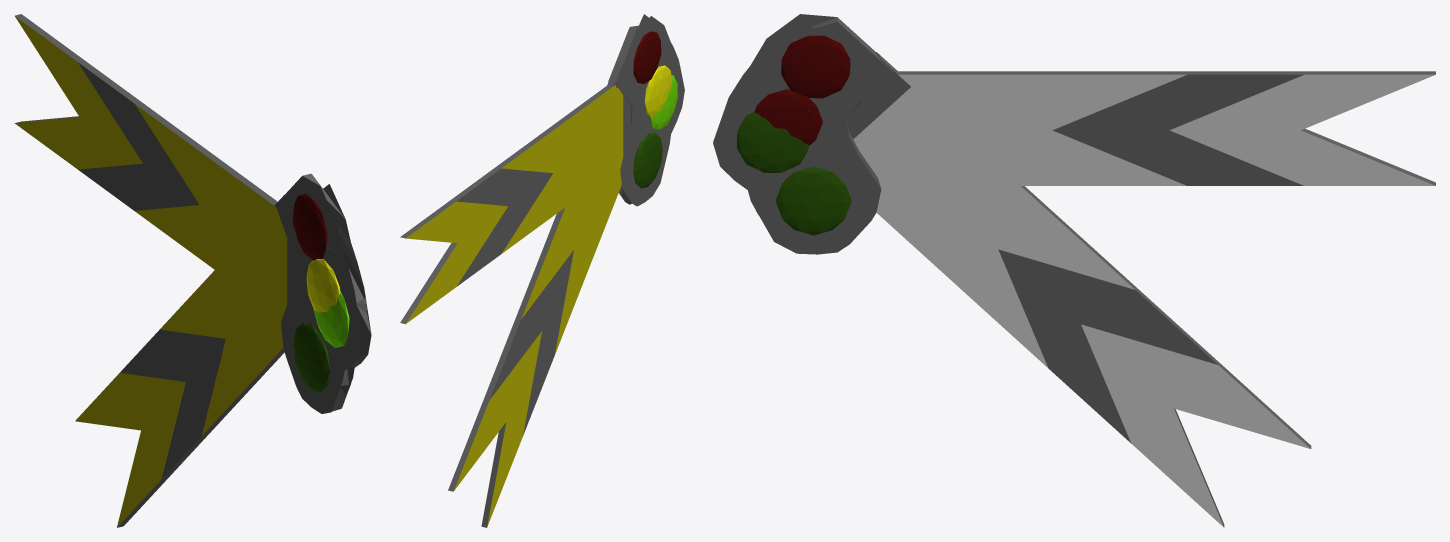
File: distant-yellow-arms.dae
3 views of the same model, side by side, from view 1: azimuth 30°, elevation 25°; view 2: azimuth 150°, elevation 25°; view 3: azimuth 270°, elevation 25° (orthographic). The views are drawn at different scales.
Parts seen in each view (by area): view 1: Cube_010, Cube_015, Cube_012, Cube_014, Icosphere_002, Icosphere_007, Icosphere_003, Icosphere_008; view 2: Cube_010, Cube_015, Cube_012, Cube_014, Icosphere_002, Icosphere_007, Icosphere_003, Icosphere_008; view 3: Cube_015, Cube_010, Cube_014, Cube_012, Icosphere_001, Icosphere_004, Icosphere_005, Icosphere_006.
Boxes of the visible parts, x1,y1,x2,y2 form: Cube_010: (14, 14, 296, 318); Cube_015: (75, 195, 284, 527); Cube_012: (281, 240, 354, 413); Cube_014: (275, 173, 371, 370); Icosphere_002: (293, 322, 329, 392); Icosphere_007: (292, 193, 327, 260); Icosphere_003: (306, 259, 340, 312); Icosphere_008: (313, 291, 349, 347); Cube_010: (400, 85, 631, 324); Cube_015: (448, 66, 621, 527); Cube_012: (619, 51, 676, 206); Cube_014: (608, 14, 684, 132); Icosphere_002: (633, 132, 662, 188); Icosphere_007: (633, 31, 661, 83); Icosphere_003: (644, 65, 671, 118); Icosphere_008: (649, 75, 677, 129); Cube_015: (847, 52, 1311, 527); Cube_010: (898, 71, 1435, 185); Cube_014: (713, 14, 892, 193); Cube_012: (748, 122, 881, 254); Icosphere_001: (775, 166, 851, 235); Icosphere_004: (781, 35, 850, 98); Icosphere_005: (736, 112, 808, 172); Icosphere_006: (754, 89, 822, 145).
Size of the model in its own units: 0.0465 by 1.42 by 1.11.
